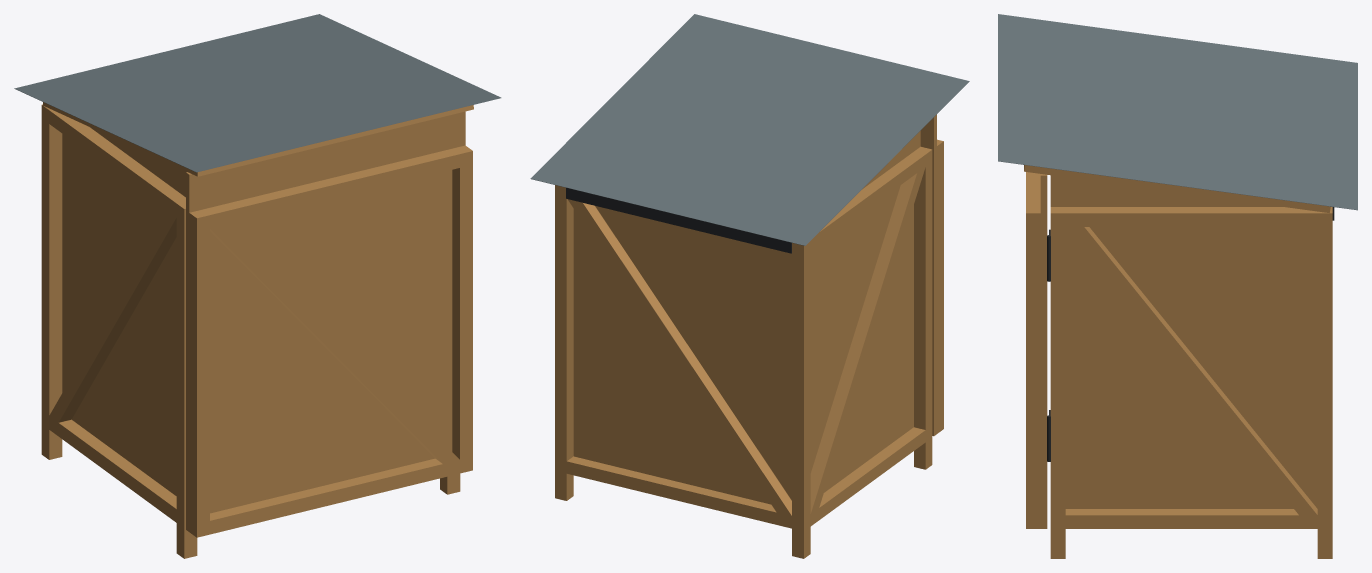
Rendered from dass-closed.glb.
3 renders of one model, left to right at view 1: azimuth 30°, elevation 25°; view 2: azimuth 150°, elevation 25°; view 3: azimuth 270°, elevation 25°, orthographic. The views are drawn at different scales.
Visible parts, largest first — view 1: door_panel, roof, left_wall, back_post_left, door_left, door_right, door_brace, door_top, door_bottom, left_brace, front_post_left, left_top (+3 smaller); view 2: roof, back_wall, left_wall, back_brace, left_brace, back_post_left, back_post_right, front_post_left, back_bottom, left_bottom, roof_hinge_fixed, left_top (+3 smaller); view 3: right_wall, roof, right_brace, back_post_right, front_post_right, right_top, right_bottom, door_right, door_panel, roof_right, door_top.
Boxes of the visible parts, bbox=[...] form: door_panel: bbox=[186, 111, 465, 531]; roof: bbox=[14, 14, 501, 172]; left_wall: bbox=[62, 127, 186, 495]; back_post_left: bbox=[41, 104, 62, 459]; door_left: bbox=[189, 209, 209, 537]; door_right: bbox=[452, 145, 472, 473]; door_brace: bbox=[210, 224, 459, 463]; door_top: bbox=[203, 148, 459, 228]; door_bottom: bbox=[210, 458, 459, 534]; left_brace: bbox=[49, 210, 176, 422]; front_post_left: bbox=[176, 201, 197, 558]; left_top: bbox=[49, 109, 185, 216]; roof: bbox=[530, 14, 969, 245]; back_wall: bbox=[579, 206, 791, 504]; left_wall: bbox=[810, 131, 920, 492]; back_brace: bbox=[567, 199, 791, 516]; left_brace: bbox=[810, 167, 925, 513]; back_post_left: bbox=[792, 241, 810, 558]; back_post_right: bbox=[555, 185, 573, 500]; front_post_left: bbox=[914, 146, 932, 469]; back_bottom: bbox=[566, 456, 791, 528]; left_bottom: bbox=[810, 427, 925, 526]; roof_hinge_fixed: bbox=[566, 187, 791, 253]; left_top: bbox=[810, 151, 925, 250]; right_wall: bbox=[1050, 175, 1317, 508]; roof: bbox=[998, 14, 1357, 210]; right_brace: bbox=[1066, 227, 1317, 515]; back_post_right: bbox=[1317, 207, 1332, 558]; front_post_right: bbox=[1050, 207, 1065, 558]; right_top: bbox=[1065, 207, 1317, 226]; right_bottom: bbox=[1065, 509, 1317, 528]; door_right: bbox=[1026, 207, 1040, 528]; door_panel: bbox=[1040, 174, 1047, 528]; roof_right: bbox=[1039, 167, 1315, 210]; door_top: bbox=[1026, 172, 1040, 206].
Bounding box in the file's own units: 1050 × 1347 × 1085.
